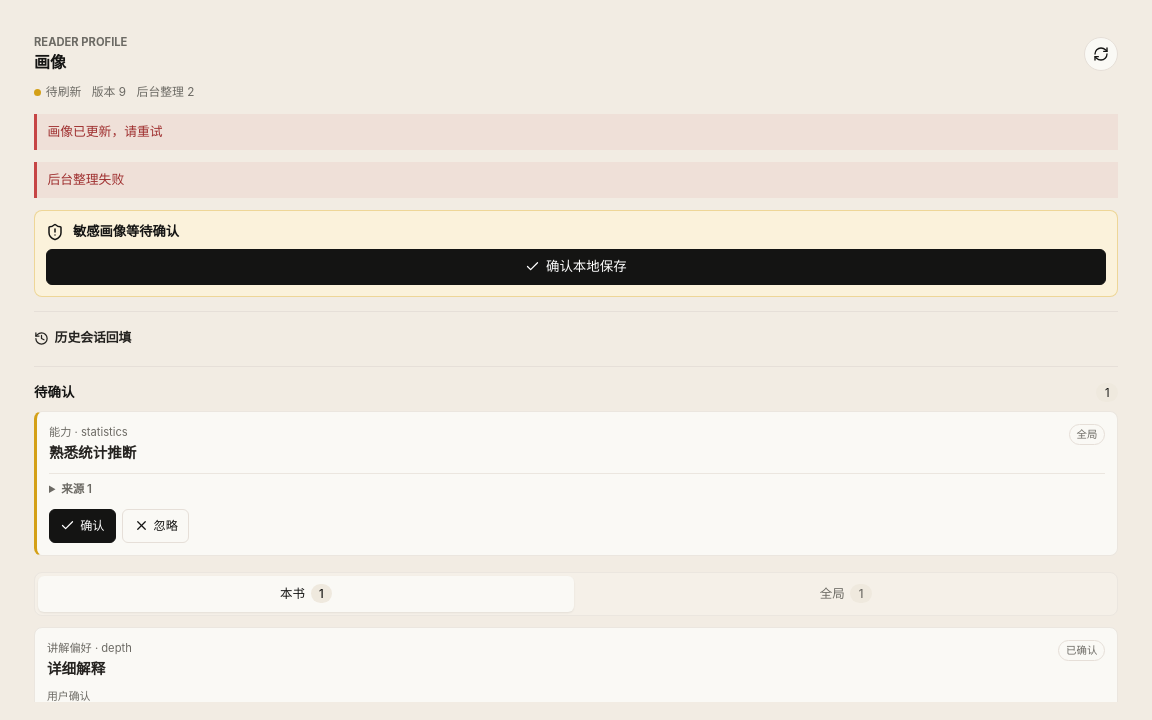
it: ProfileMemoryPanel › switches between current-book and global facts and keeps errors in-panel
Expected: the element showing "讲解偏好 · depth 详细解释 已确认 用户确认 来源 1" is shown, x1=47 y1=660 x2=105 y2=678
Click the tab "全局 1" at (846, 594), box x1=578 y1=576 x2=1114 y2=612
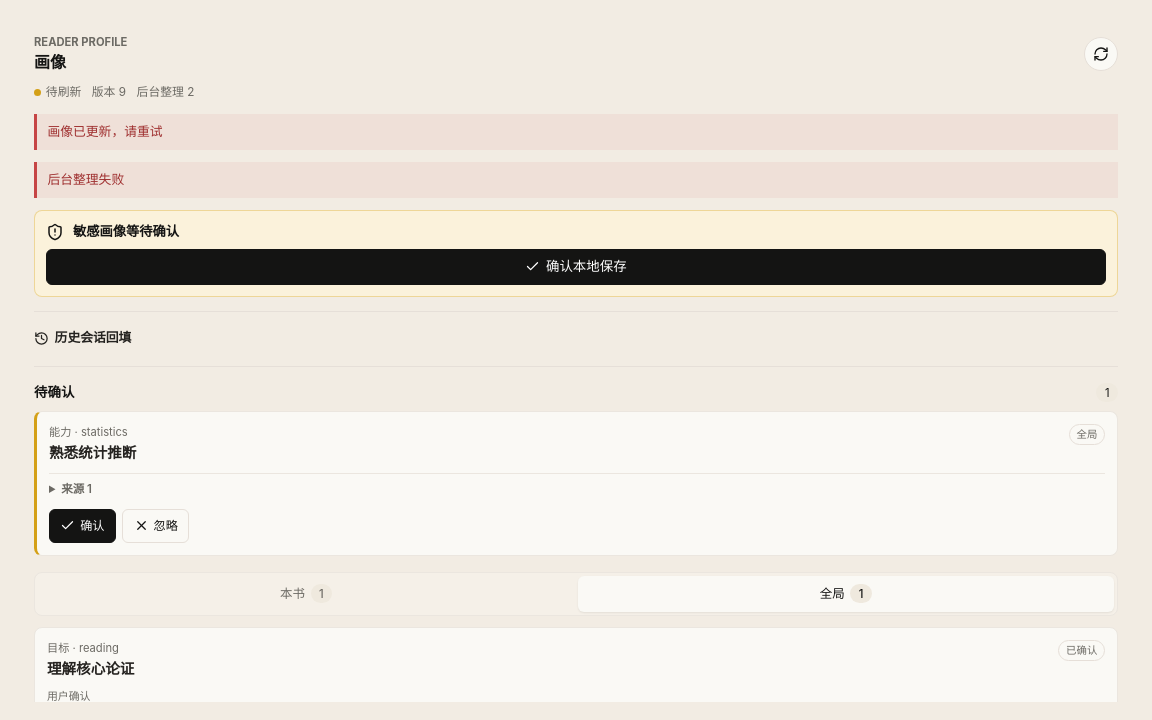
Expected: the text "待刷新" is shown, x1=34 y1=84 x2=81 y2=101
Now the element showing "目标 · reading 理解核心论证 已确认 用户确认" is shown, box x1=47 y1=660 x2=134 y2=678
